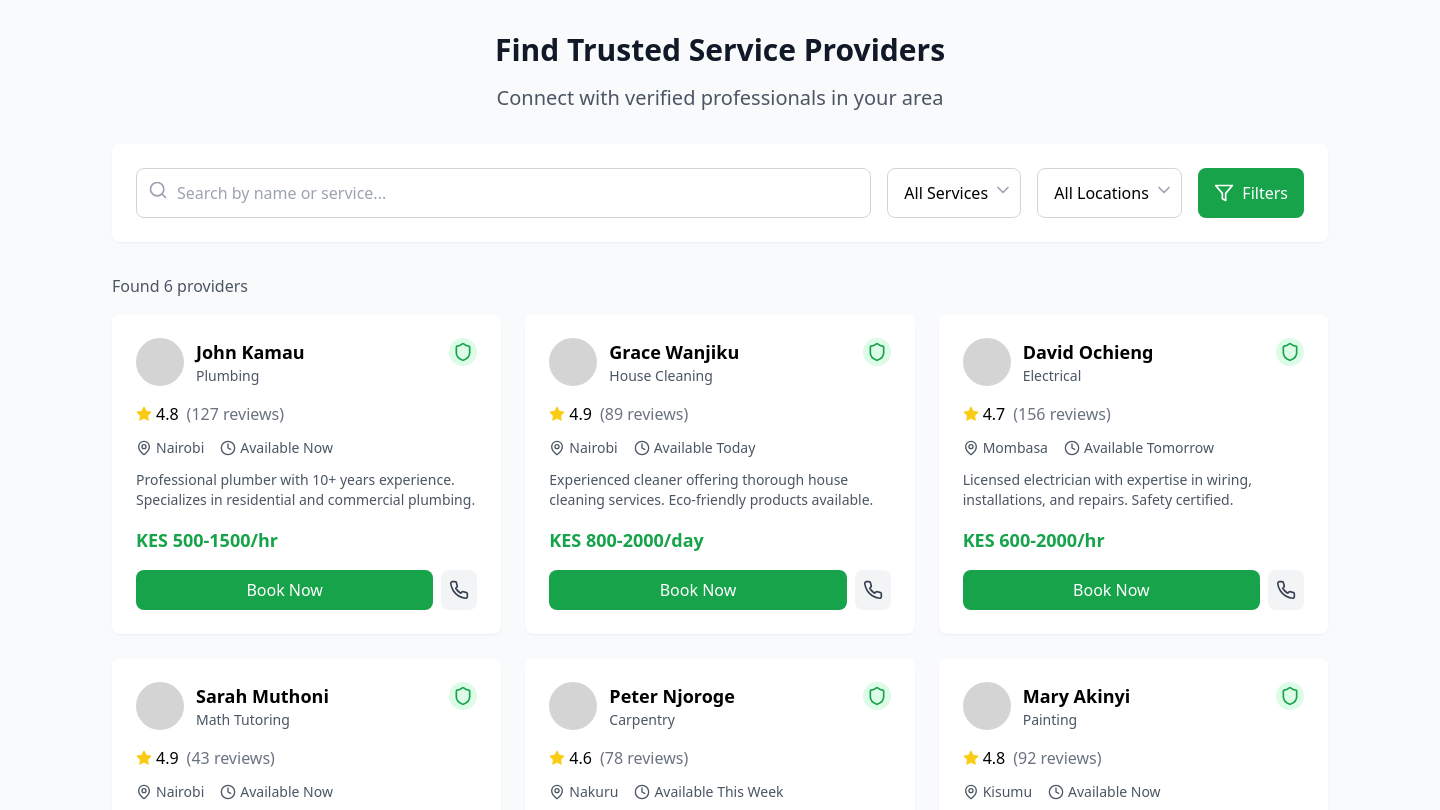
it: ProvidersPage Component › search functionality works
This screenshot has width=1440, height=810.
Type "John" into the field with placeholder "Search by name or service...".
click(504, 193); type("John")  # box [136, 168, 871, 218]
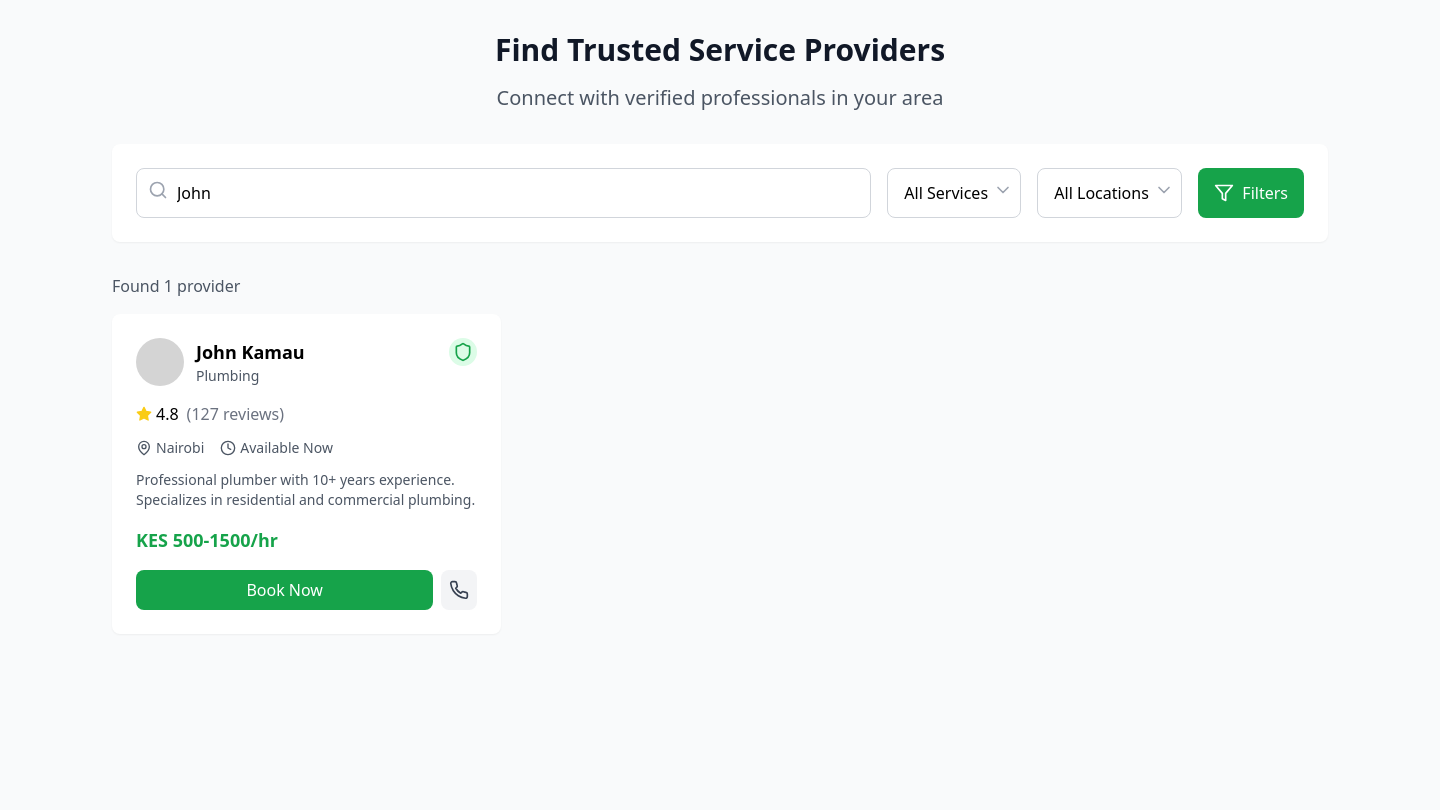
Expected: the heading "John Kamau" is shown, [196, 338, 305, 366]
Expected: the heading "Grace Wanjiku" is gone
